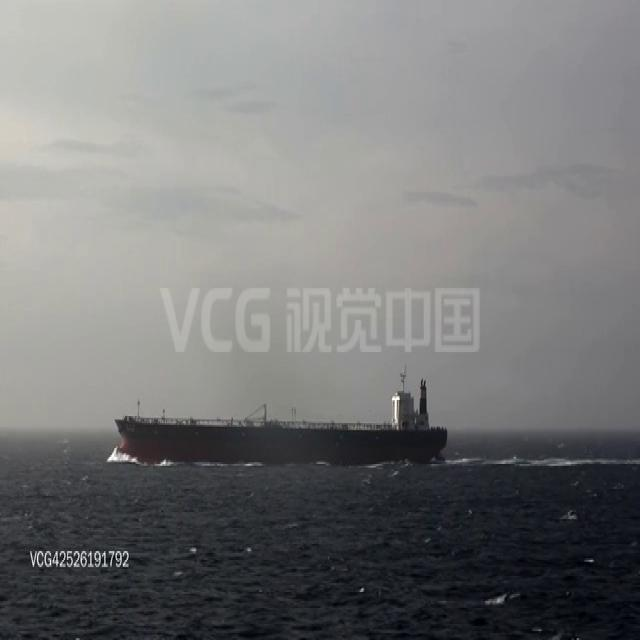cargoship: (114, 370, 447, 467)
